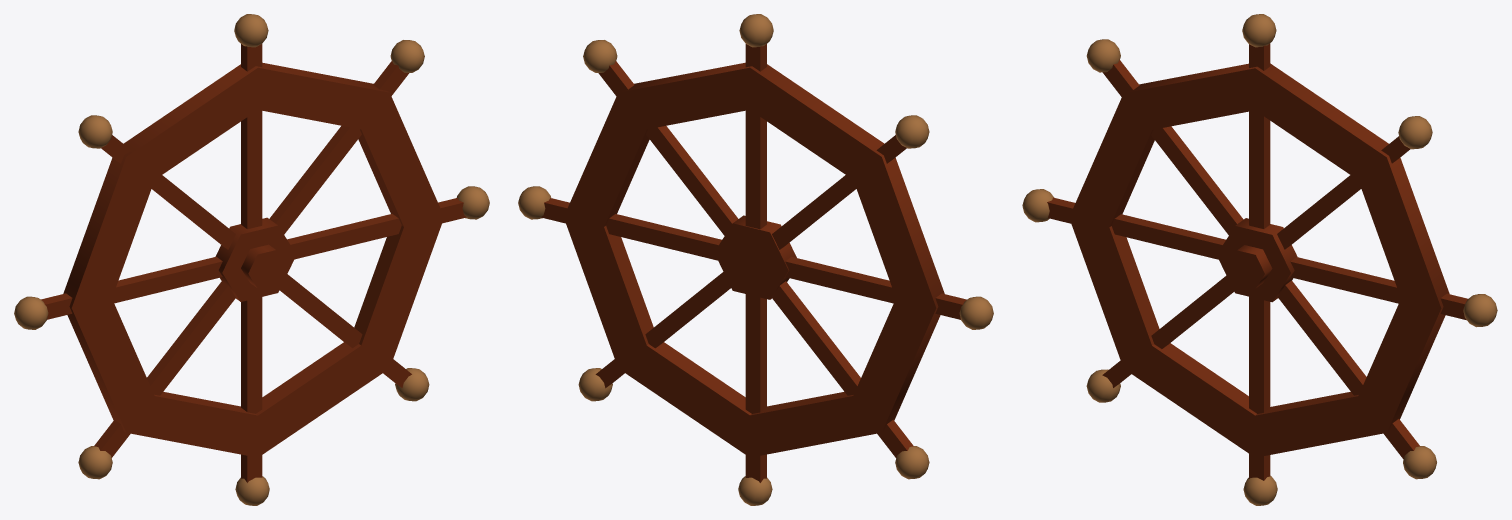
Rendered from Ship Wheel 001.FBX.
3 renders of one model, left to right at view 1: azimuth 30°, elevation 25°; view 2: azimuth 150°, elevation 25°; view 3: azimuth 330°, elevation 25°, orthographic.
Parts seen in each view (by area): view 1: Ship Wheel, Middle Spindle 003, Middle Spindle 007, Inner Ring 001, Middle Spindle 006, Middle Spindle 008, Middle Spindle 005, Middle Spindle 004, Middle Spindle 001, Middle Spindle 002, Inner Ring 002, Hand Grip 008 (+7 smaller); view 2: Ship Wheel, Inner Ring 001, Middle Spindle 003, Middle Spindle 007, Middle Spindle 006, Middle Spindle 008, Middle Spindle 005, Middle Spindle 004, Middle Spindle 002, Middle Spindle 001, Hand Grip 008, Hand Grip 001 (+6 smaller); view 3: Ship Wheel, Middle Spindle 002, Middle Spindle 001, Inner Ring 001, Middle Spindle 008, Middle Spindle 006, Middle Spindle 005, Middle Spindle 004, Middle Spindle 007, Middle Spindle 003, Inner Ring 002, Hand Grip 002 (+7 smaller).
Part boxes in pixels (x1,y1,x2,y2): Ship Wheel: [63, 62, 444, 457]; Middle Spindle 003: [94, 281, 235, 457]; Middle Spindle 007: [269, 61, 409, 234]; Inner Ring 001: [215, 217, 296, 301]; Middle Spindle 006: [241, 297, 262, 482]; Middle Spindle 008: [241, 44, 262, 229]; Middle Spindle 005: [41, 256, 222, 319]; Middle Spindle 004: [287, 198, 466, 259]; Middle Spindle 001: [101, 135, 235, 249]; Middle Spindle 002: [279, 274, 411, 387]; Inner Ring 002: [241, 244, 285, 288]; Hand Grip 008: [78, 115, 112, 148]; Ship Wheel: [563, 62, 944, 457]; Inner Ring 001: [714, 215, 796, 299]; Middle Spindle 003: [772, 281, 913, 457]; Middle Spindle 007: [598, 61, 738, 235]; Middle Spindle 006: [745, 294, 766, 482]; Middle Spindle 008: [745, 44, 766, 229]; Middle Spindle 005: [785, 256, 966, 319]; Middle Spindle 004: [541, 198, 721, 260]; Middle Spindle 002: [595, 272, 731, 388]; Middle Spindle 001: [772, 135, 906, 249]; Hand Grip 008: [895, 115, 929, 148]; Hand Grip 001: [739, 14, 773, 47]; Ship Wheel: [1069, 63, 1449, 457]; Middle Spindle 002: [1278, 280, 1419, 459]; Middle Spindle 001: [1102, 60, 1243, 234]; Inner Ring 001: [1216, 218, 1297, 302]; Middle Spindle 008: [1249, 43, 1270, 228]; Middle Spindle 006: [1249, 296, 1270, 480]; Middle Spindle 005: [1047, 197, 1225, 259]; Middle Spindle 004: [1290, 257, 1467, 320]; Middle Spindle 007: [1277, 136, 1410, 249]; Middle Spindle 003: [1102, 275, 1233, 387]; Inner Ring 002: [1228, 245, 1272, 288]; Hand Grip 002: [1398, 116, 1432, 149].
Size of the model in its own units: 1.26 by 1.26 by 0.1062.
